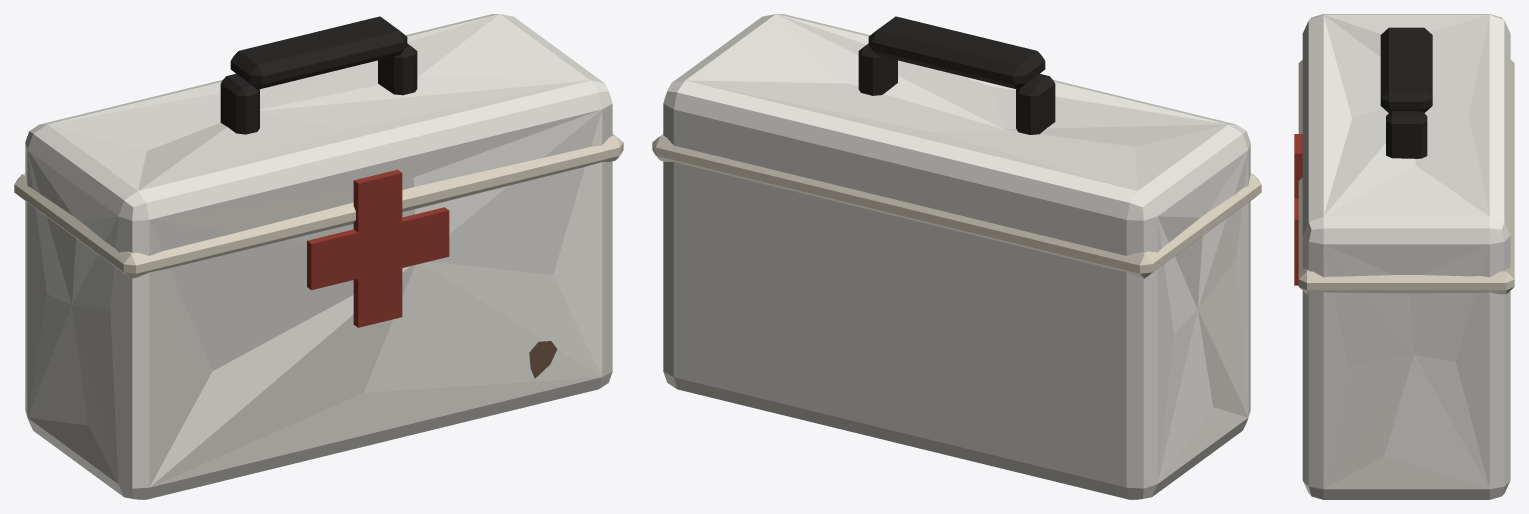
The model's file is first_aid_kit_domashnyaya_idle.glb.
The picture shows the model from 3 angles, left to right: view 1: azimuth 30°, elevation 25°; view 2: azimuth 150°, elevation 25°; view 3: azimuth 270°, elevation 25°; orthographic projection. The views are drawn at different scales.
Parts seen in each view (by area): view 1: first_aid_kit_domashnyaya_idle; view 2: first_aid_kit_domashnyaya_idle; view 3: first_aid_kit_domashnyaya_idle.
Boxes of the visible parts, x1,y1,x2,y2 form: first_aid_kit_domashnyaya_idle: (14,14,623,499); first_aid_kit_domashnyaya_idle: (652,14,1261,499); first_aid_kit_domashnyaya_idle: (1294,14,1514,499).
Bounding box in the file's own units: 0.254 × 0.18 × 0.108.
Materials: 1 (1 with a texture image).
